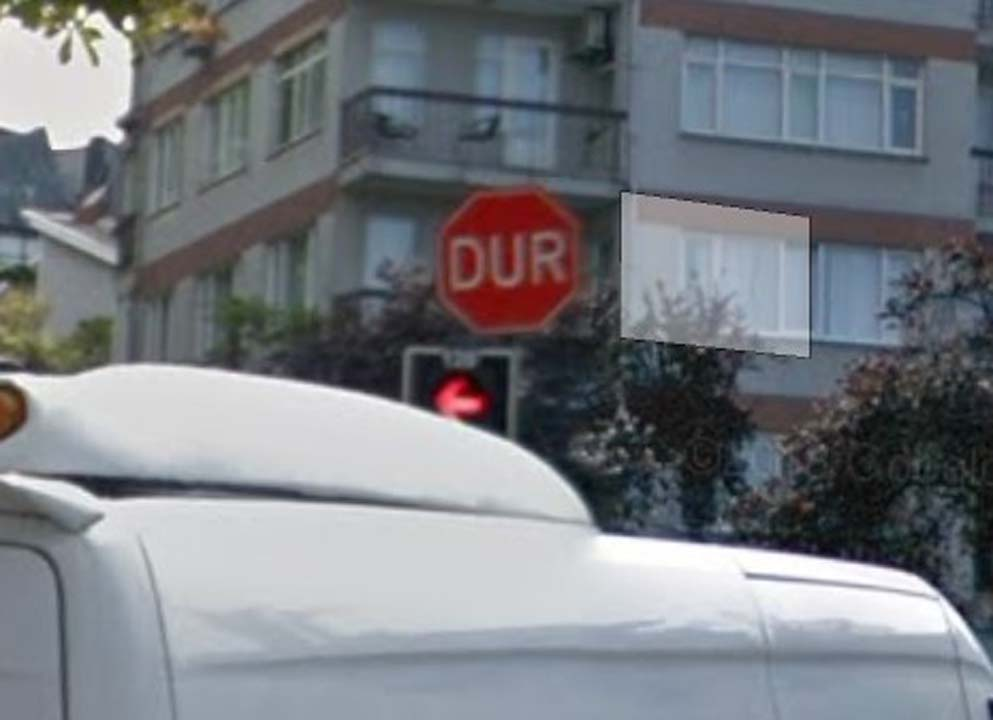arac_dur_isareti: (397, 128, 600, 354)
